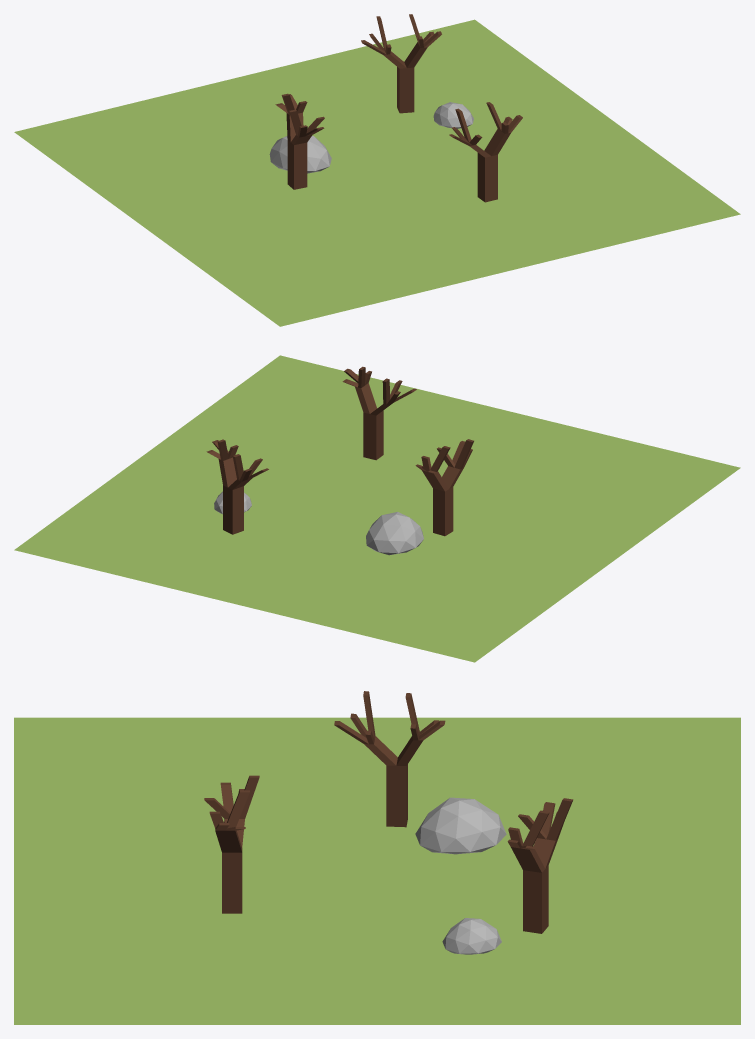
The model's file is forest.glb.
The picture shows the model from 3 angles, top to bottom: view 1: azimuth 30°, elevation 25°; view 2: azimuth 150°, elevation 25°; view 3: azimuth 270°, elevation 25°; orthographic projection. The views are drawn at different scales.
Parts seen in each view (by area): view 1: Ground, Tree 3, Tree 1, Tree 2, Rock 1, Rock 2; view 2: Ground, Tree 1, Tree 2, Tree 3, Rock 1; view 3: Ground, Tree 2, Rock 1, Tree 1, Tree 3, Rock 2.
Boxes of the visible parts, bbox=[...] form: Ground: bbox=[14, 19, 740, 326]; Tree 3: bbox=[449, 102, 522, 202]; Tree 1: bbox=[275, 93, 324, 189]; Tree 2: bbox=[361, 14, 441, 113]; Rock 1: bbox=[269, 136, 331, 173]; Rock 2: bbox=[433, 102, 473, 128]; Ground: bbox=[14, 355, 740, 662]; Tree 1: bbox=[415, 439, 473, 536]; Tree 2: bbox=[206, 439, 268, 534]; Tree 3: bbox=[342, 366, 416, 460]; Rock 1: bbox=[366, 512, 423, 555]; Ground: bbox=[14, 717, 740, 1024]; Tree 2: bbox=[507, 798, 573, 933]; Rock 1: bbox=[415, 797, 506, 854]; Tree 1: bbox=[334, 691, 445, 827]; Tree 3: bbox=[204, 775, 259, 913]; Rock 2: bbox=[442, 918, 501, 954].
Size of the model in its own units: 9.03 by 1.69 by 9.03.
Materials: 1 (1 with a texture image).
